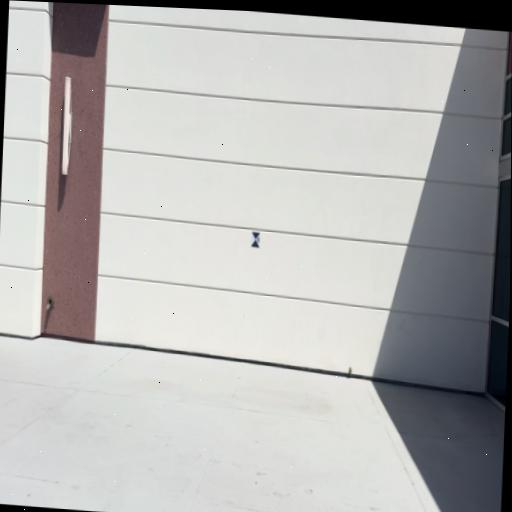target4: (251, 231, 261, 248)
